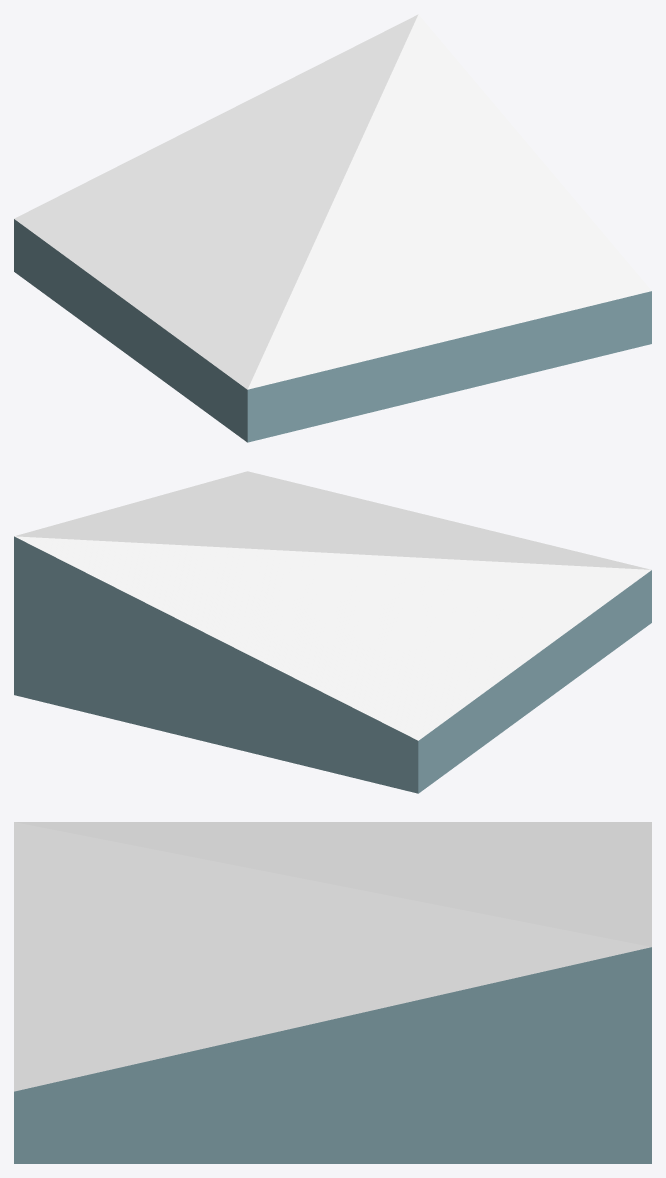
File: Terrain_Tile_Ice_Snow_Corner_Ramp_High_01.fbx
3 renders of one model, top to bottom at view 1: azimuth 30°, elevation 25°; view 2: azimuth 150°, elevation 25°; view 3: azimuth 270°, elevation 25°, orthographic. The views are drawn at different scales.
Parts seen in each view (by area): view 1: Model; view 2: Model; view 3: Model.
Part boxes in pixels (x1,y1,x2,y2): Model: (14, 14, 651, 442); Model: (14, 471, 651, 793); Model: (14, 822, 651, 1163).
Bounding box in the file's own units: 2000 × 750 × 2000.
